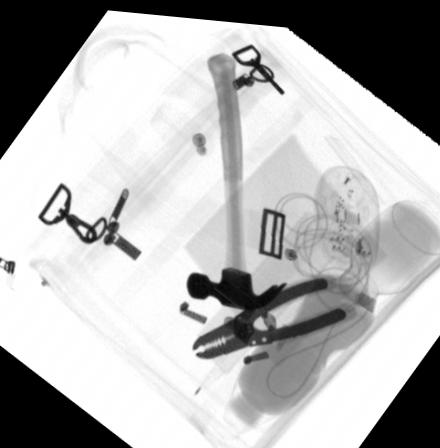Hammer: (184, 45, 287, 305)
Pliers: (190, 266, 355, 354)
